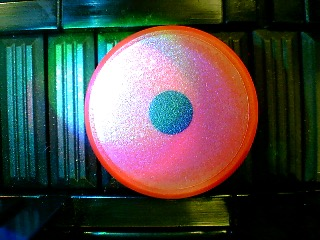BOHO: (84, 25, 259, 199)
